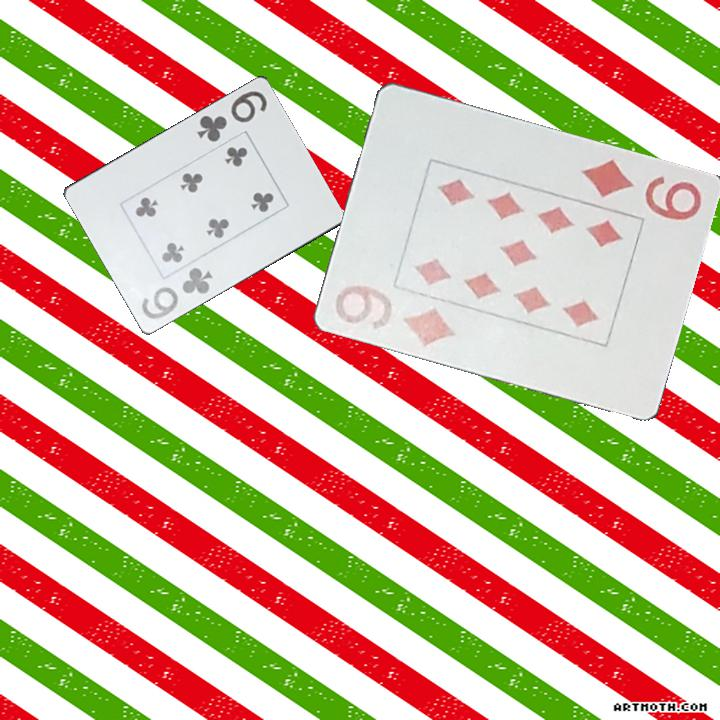6c: (138, 263, 216, 322), (193, 86, 270, 145)
9d: (331, 280, 459, 353), (577, 153, 705, 225)
